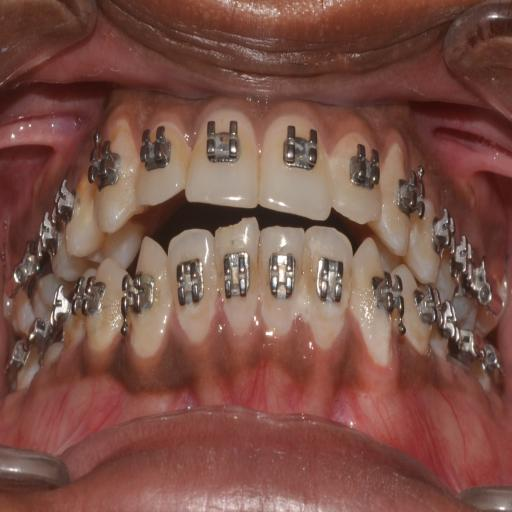correct_brace: (202, 114, 244, 172), (280, 119, 322, 176), (346, 137, 382, 194), (264, 245, 298, 304), (314, 252, 347, 310), (137, 122, 171, 178), (219, 246, 253, 301), (172, 255, 206, 308)
incorrect_brace: (304, 222, 352, 352), (166, 224, 214, 346), (133, 120, 190, 219), (333, 120, 382, 230)
